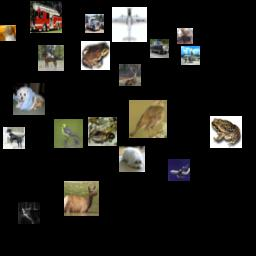airplane: (112, 7, 147, 42), (168, 159, 190, 181), (181, 46, 200, 65)
automobile: (150, 39, 169, 58)
bird: (129, 100, 167, 138), (54, 119, 83, 148)
cat: (18, 202, 40, 224), (0, 25, 16, 41)
deer: (64, 181, 99, 216), (119, 64, 141, 86), (177, 28, 193, 44)
dog: (13, 83, 45, 115), (119, 146, 145, 172), (3, 127, 25, 149)
frog: (210, 116, 242, 148), (88, 117, 117, 146), (81, 41, 110, 70)
truck: (30, 1, 62, 33), (85, 14, 104, 33)
